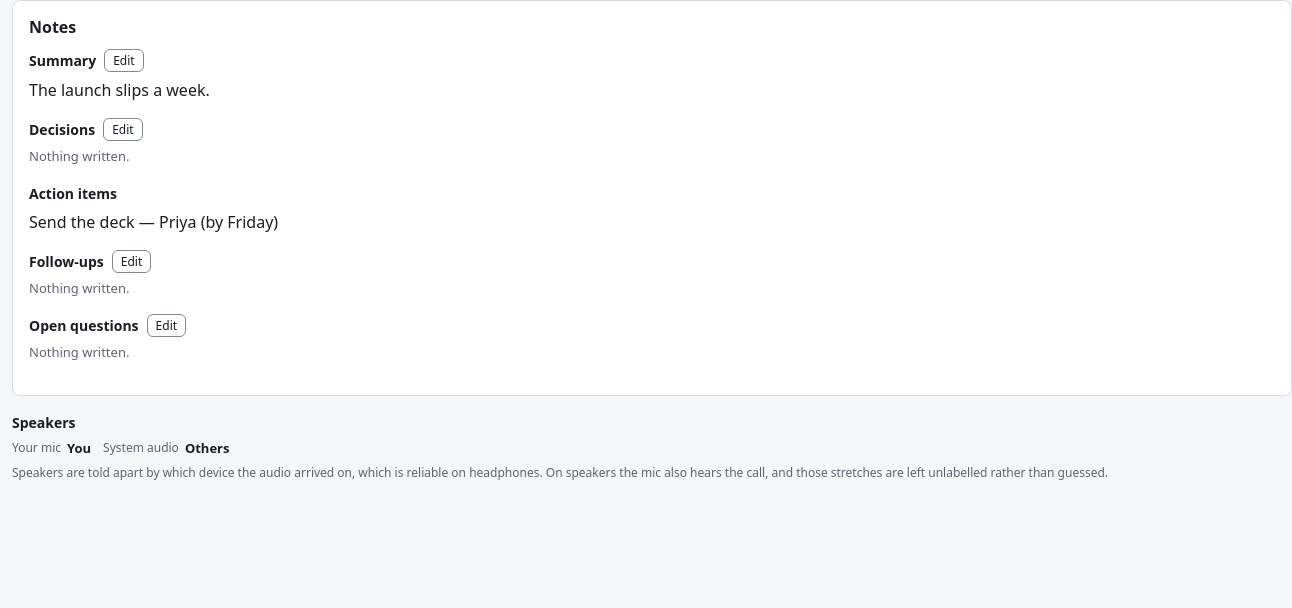
Test: SummaryTab › cancel restores the section without saving anything
Click the button with aria-label "Edit summary" at (124, 60), box left=104, top=49, right=144, bottom=72
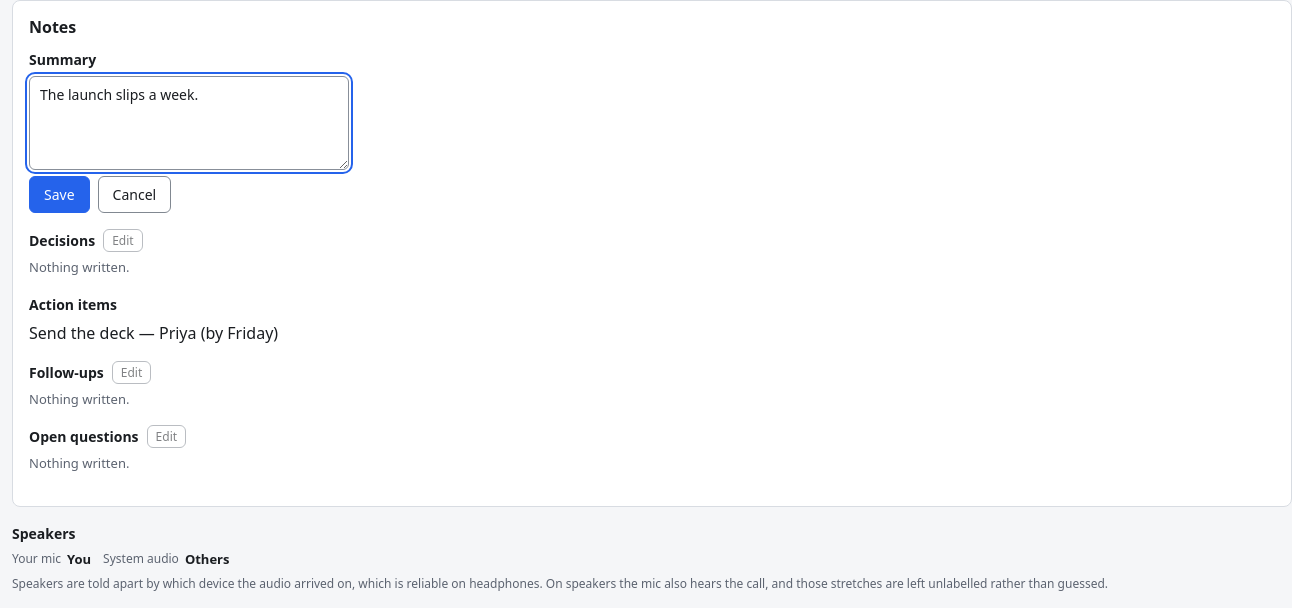
Type " Really." into the text box named "Summary text" at (189, 123), box left=29, top=76, right=349, bottom=170
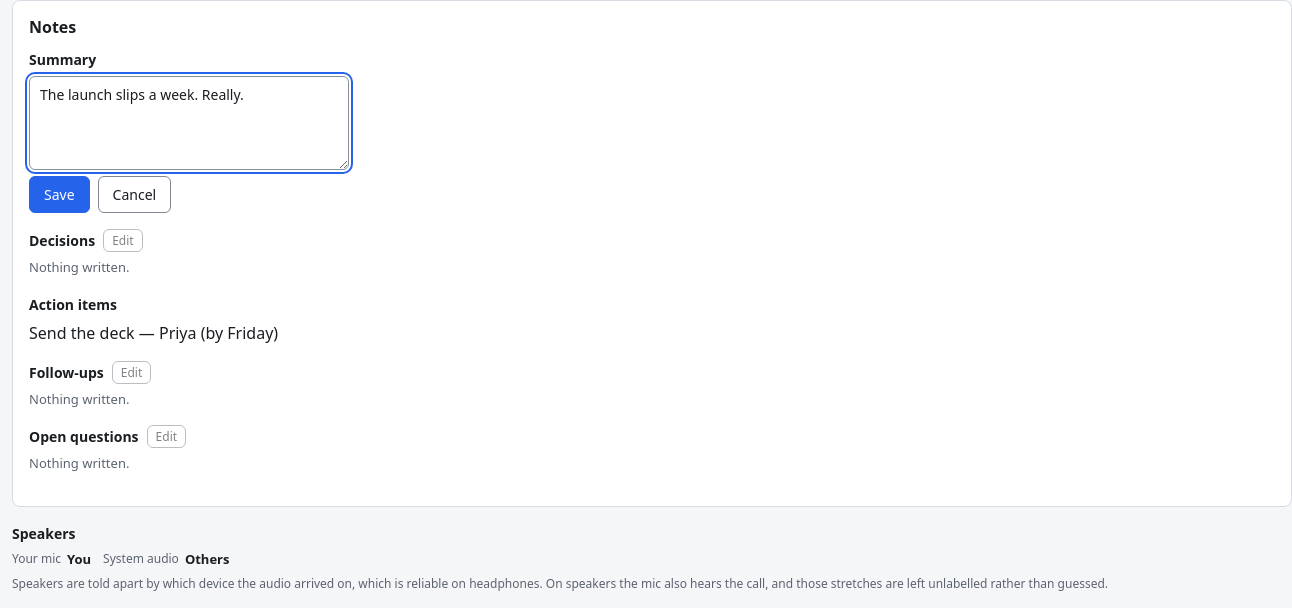
Click the button "Cancel" at (134, 194), box left=98, top=176, right=171, bottom=213
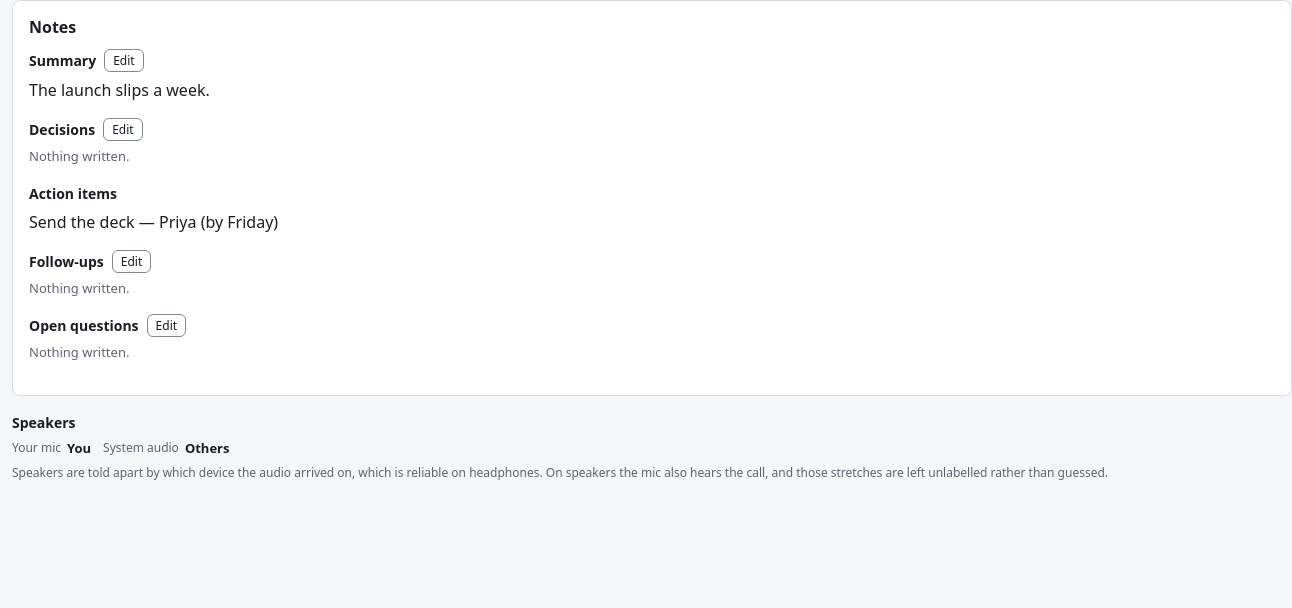
Result: the text "The launch slips a week." is shown at left=29, top=79, right=210, bottom=101
